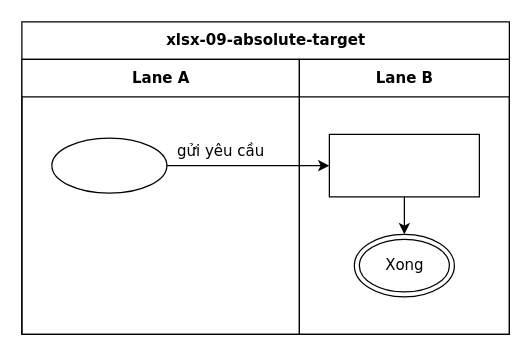
Some shapes in this 531 by 356 pixel diagram are drawn without their labels. Each missing label, with the centre of its shape:
"Bắt đầu" goes at (109,165).
"Xử lý" goes at (403,165).
